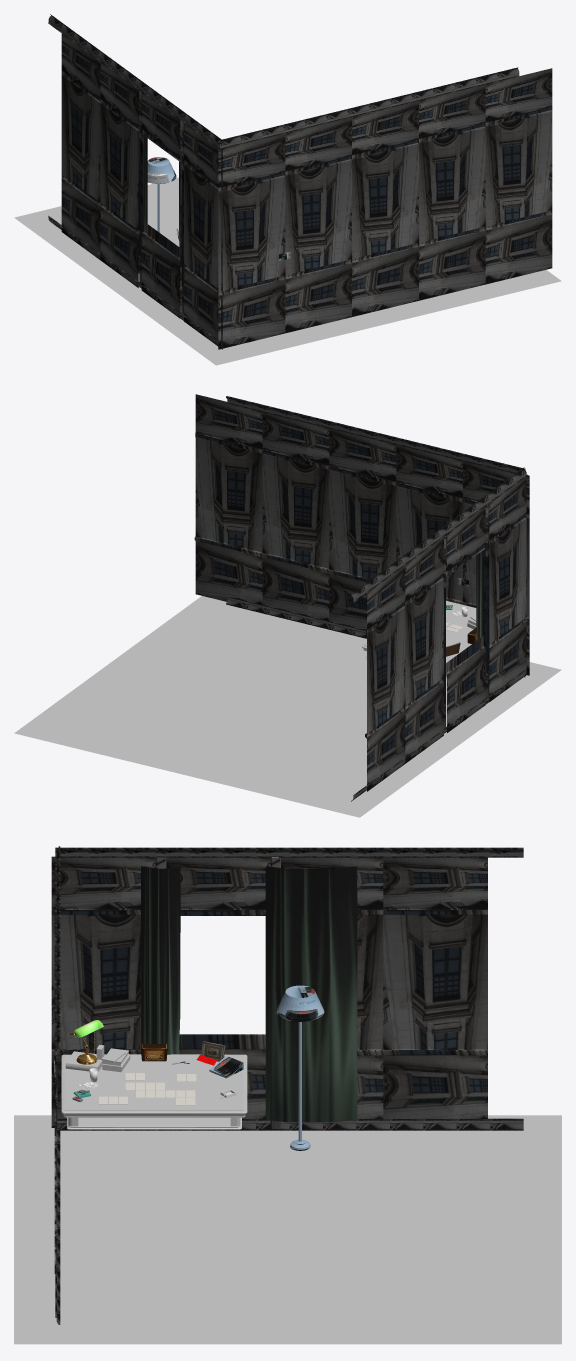
The model's file is Table.fbx.
The picture shows the model from 3 angles, top to bottom: view 1: azimuth 30°, elevation 25°; view 2: azimuth 150°, elevation 25°; view 3: azimuth 270°, elevation 25°; orthographic projection. The views are drawn at different scales.
Visible parts, largest first — view 1: 平面.014, 平面.017, 平面.013, 平面.015, 平面.016, 平面.001, 平面.021, 柱体.008; view 2: 平面.013, 平面.014, 平面.017, 平面.015, 平面.001, 平面.016, 平面, 平面.021; view 3: 平面.013, 平面.017, 平面.021, 平面.015, 平面.001, 平面.016, 平面, 立方体, 柱体.008, 平面.014, 柱体.007.
Part boxes in pixels (left/top/right/bottom): 平面.014: left=217, top=68, right=552, bottom=349; 平面.017: left=61, top=32, right=140, bottom=287; 平面.013: left=14, top=177, right=561, bottom=365; 平面.015: left=184, top=122, right=224, bottom=349; 平面.016: left=139, top=90, right=185, bottom=320; 平面.001: left=48, top=14, right=519, bottom=341; 平面.021: left=138, top=90, right=180, bottom=272; 柱体.008: left=147, top=157, right=176, bottom=183; 平面.013: left=14, top=596, right=561, bottom=817; 平面.014: left=194, top=394, right=529, bottom=675; 平面.017: left=365, top=536, right=443, bottom=791; 平面.015: left=487, top=474, right=527, bottom=701; 平面.001: left=226, top=396, right=526, bottom=801; 平面.016: left=444, top=504, right=489, bottom=732; 平面: left=364, top=601, right=476, bottom=662; 平面.021: left=476, top=550, right=483, bottom=640; 平面.013: left=14, top=1115, right=561, bottom=1344; 平面.017: left=279, top=857, right=487, bottom=1118; 平面.021: left=141, top=866, right=357, bottom=1122; 平面.015: left=51, top=856, right=155, bottom=1127; 平面.001: left=55, top=846, right=523, bottom=1324; 平面.016: left=155, top=857, right=280, bottom=1128; 平面: left=65, top=1055, right=243, bottom=1110; 立方体: left=61, top=1054, right=247, bottom=1129; 柱体.008: left=276, top=985, right=324, bottom=1021; 平面.014: left=54, top=909, right=57, bottom=1273; 柱体.007: left=290, top=1022, right=310, bottom=1150.
Size of the model in its own units: 2774 by 1578 by 2765.
